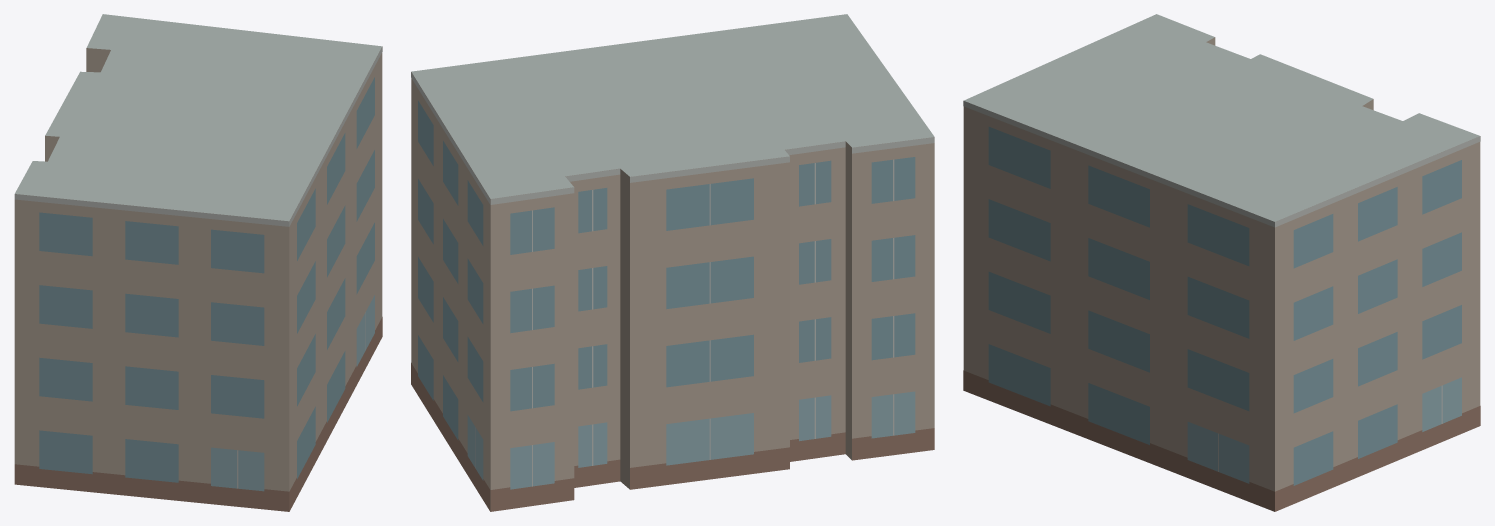
The model's file is survey-upis-32945717.glb.
3 renders of one model, left to right at view 1: azimuth 30°, elevation 25°; view 2: azimuth 150°, elevation 25°; view 3: azimuth 270°, elevation 25°, orthographic. The views are drawn at different scales.
Parts seen in each view (by area): view 1: survey-upis-32945717.tmp; view 2: survey-upis-32945717.tmp; view 3: survey-upis-32945717.tmp.
Part boxes in pixels (box(x1,y1,x2,y2)): survey-upis-32945717.tmp: box(14, 14, 382, 511); survey-upis-32945717.tmp: box(411, 14, 934, 511); survey-upis-32945717.tmp: box(963, 14, 1480, 511).
Bounding box in the file's own units: 19.54 × 12.7 × 20.53.
